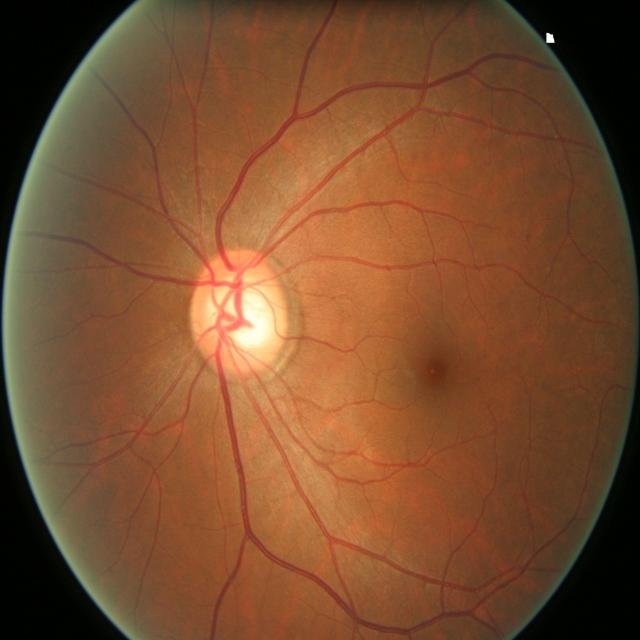OC: (212, 276, 276, 352)
OD: (188, 249, 289, 372)
